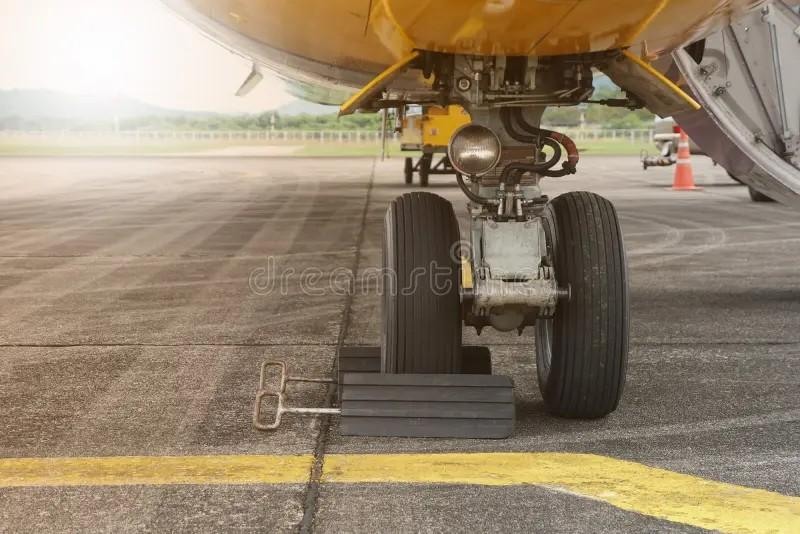boots: (336, 374, 515, 441), (335, 345, 496, 389)
wheels: (533, 192, 627, 418), (379, 192, 461, 377)
